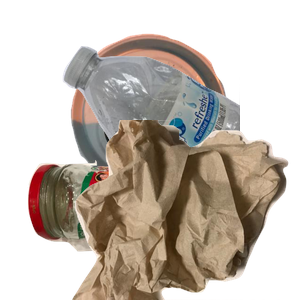glass: (25, 155, 227, 300)
metal: (68, 31, 288, 211)
plastic: (60, 44, 300, 224)
trash: (70, 120, 300, 300)
